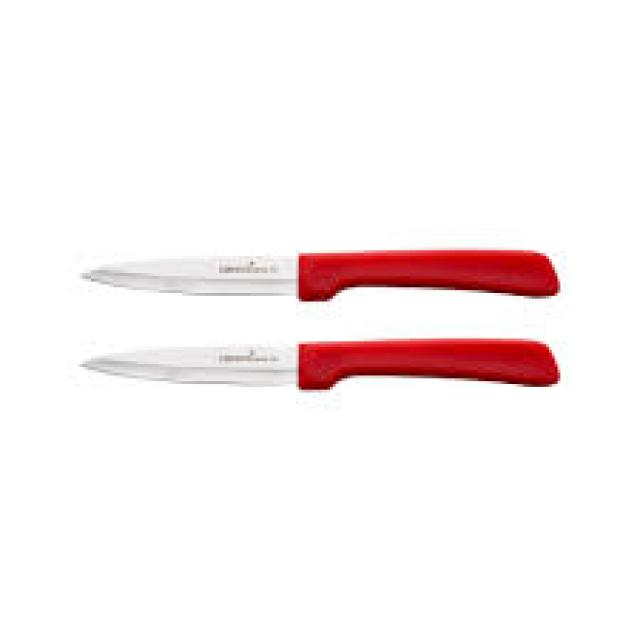Knife: (82, 247, 560, 302), (85, 338, 558, 390)
